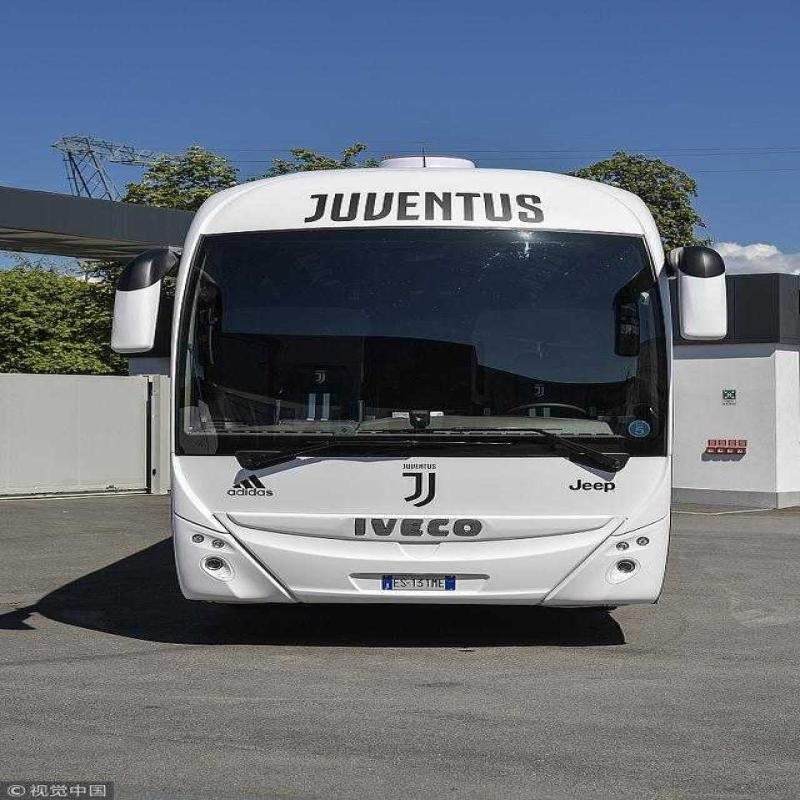bus: (146, 129, 725, 681)
